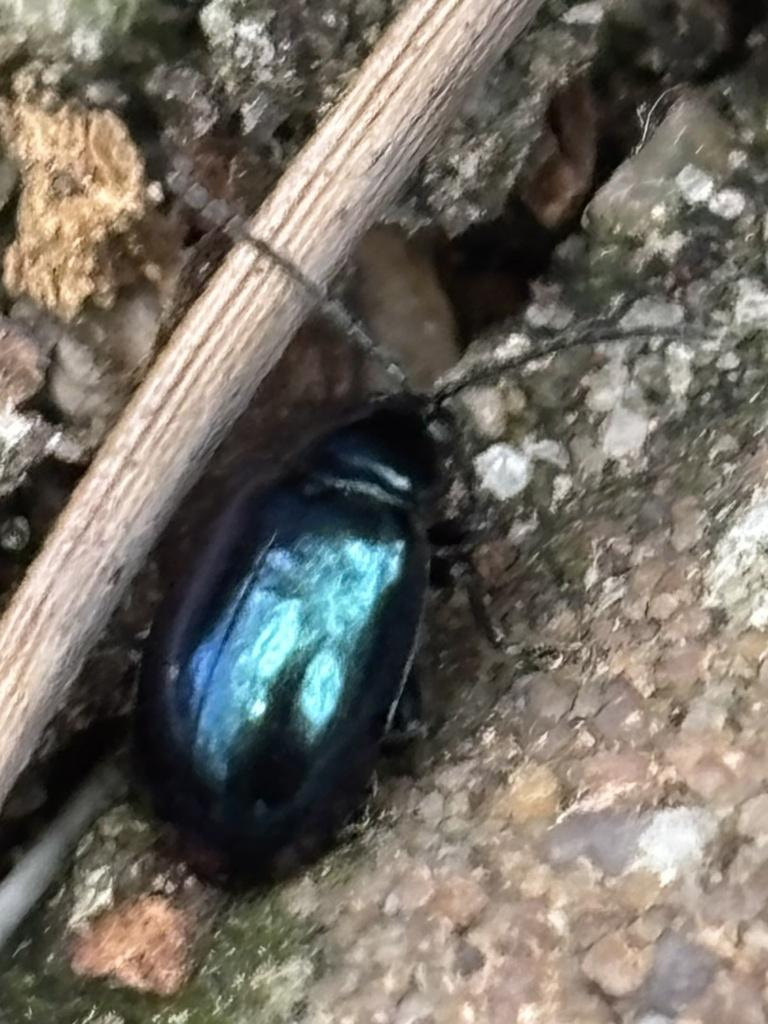flea_beetle: (29, 99, 753, 911)
